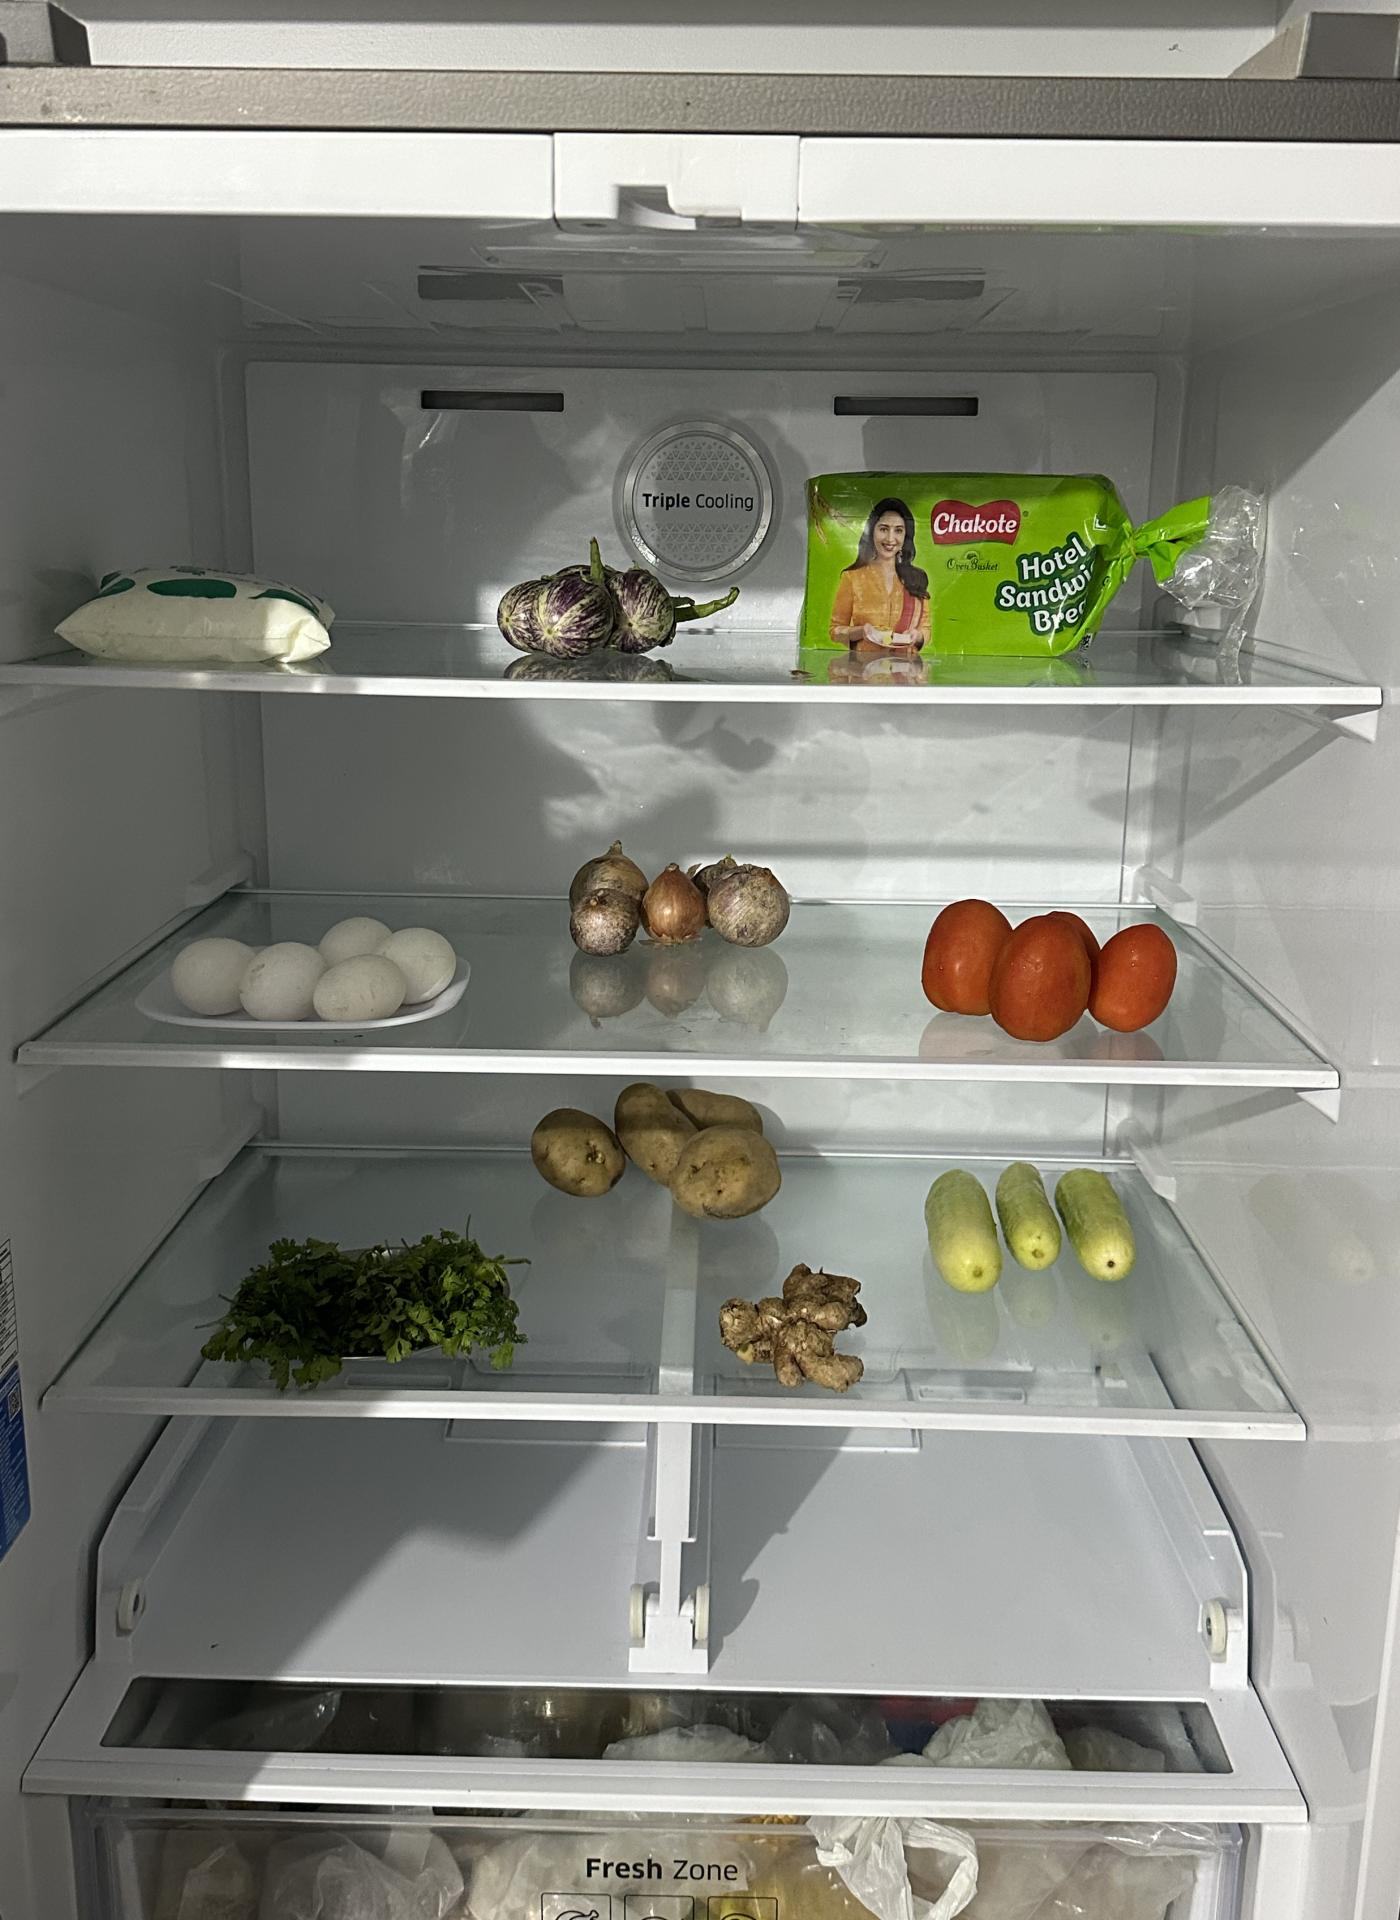bread: (798, 471, 1138, 680)
coriander: (206, 1233, 520, 1382)
cucumber: (927, 1167, 1065, 1295), (1053, 1161, 1136, 1280)
egg: (163, 911, 462, 1017)
ginger: (719, 1263, 868, 1392)
milk: (54, 568, 343, 668)
onion: (571, 845, 789, 960), (496, 553, 692, 662)
potato: (531, 1076, 783, 1207)
tomato: (917, 905, 1178, 1046)
